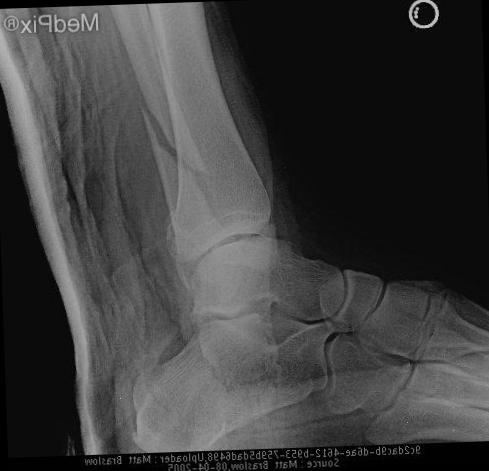line: (144, 108, 226, 226)
